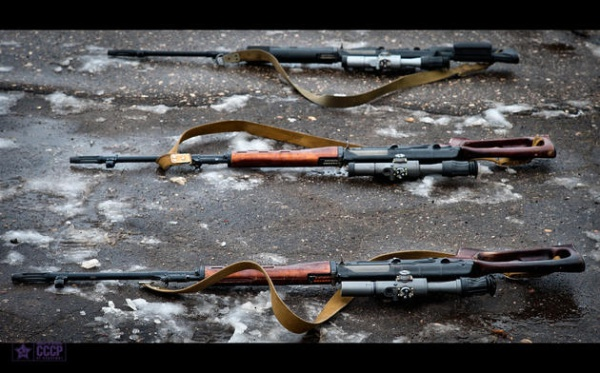ak47: (11, 239, 586, 303), (71, 132, 556, 179), (106, 43, 522, 74)
